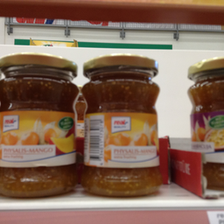jam: (81, 55, 162, 196), (1, 55, 78, 199), (187, 57, 224, 193)
